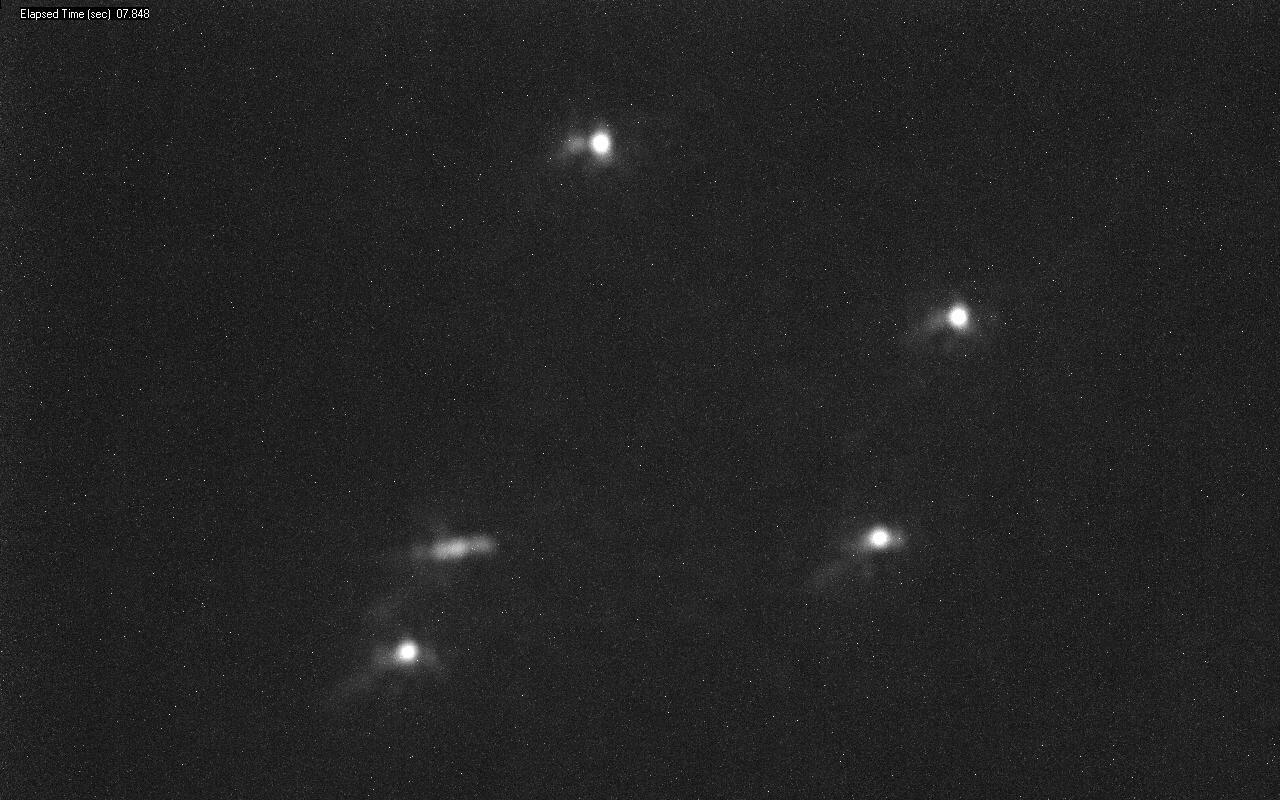Bead: (941, 302, 969, 331), (393, 638, 424, 663), (866, 526, 894, 549), (591, 131, 610, 155)
